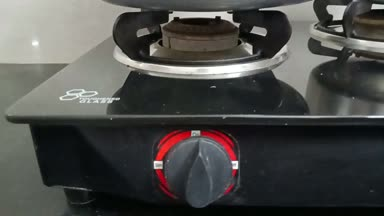noflame_gason: (115, 6, 284, 213)
